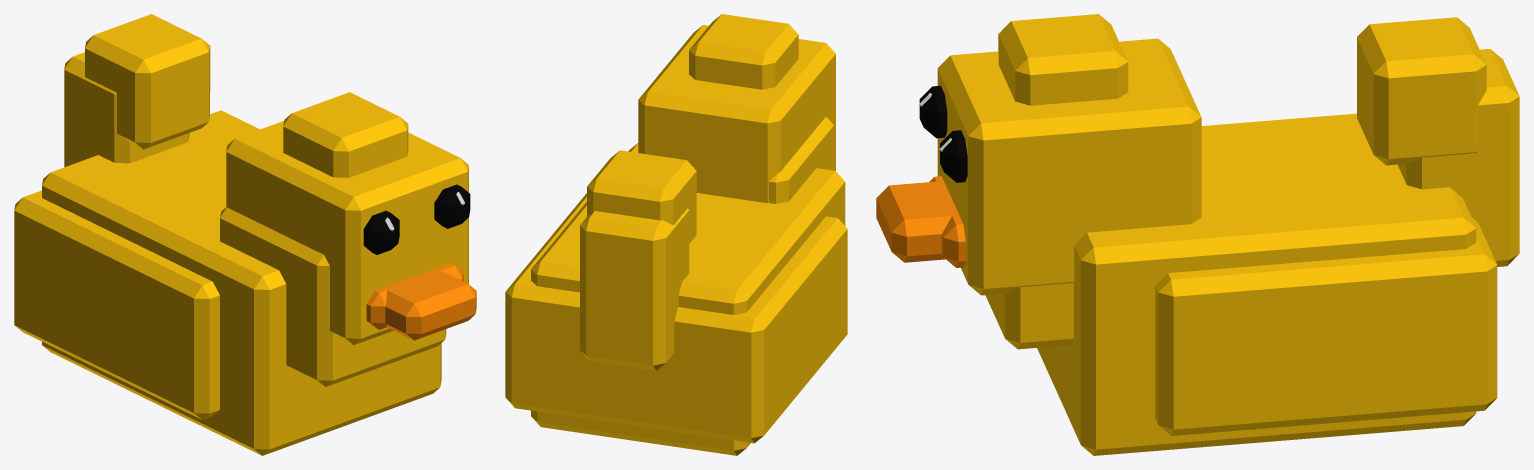
The model's file is RubberDuck_Alive.fbx.
3 renders of one model, left to right at view 1: azimuth 30°, elevation 25°; view 2: azimuth 150°, elevation 25°; view 3: azimuth 270°, elevation 25°, orthographic. The views are drawn at different scales.
Visible parts, largest first — view 1: Cube.074, Cube.075, Cube.070, Cube.078, Cube.037, Cube.153, Cube.069, Cube.077, Cube.038, Cube.068, Cube.073, Cube.076; view 2: Cube.075, Cube.070, Cube.074, Cube.077, Cube.076, Cube.153, Cube.078, Cube.037; view 3: Cube.074, Cube.075, Cube.070, Cube.078, Cube.153, Cube.077, Cube.069, Cube.037, Cube.076, Cube.068, Cube.038, Cube.073.
Part boxes in pixels (x1,y1,x2,y2): Cube.074: [42, 110, 441, 455]; Cube.075: [14, 190, 219, 419]; Cube.070: [226, 121, 468, 345]; Cube.078: [85, 14, 210, 149]; Cube.037: [220, 207, 446, 386]; Cube.153: [283, 92, 408, 177]; Cube.069: [383, 268, 476, 340]; Cube.077: [64, 52, 189, 162]; Cube.038: [434, 184, 470, 228]; Cube.068: [363, 210, 399, 254]; Cube.073: [366, 263, 463, 329]; Cube.076: [64, 135, 188, 167]; Cube.075: [505, 193, 847, 443]; Cube.070: [638, 25, 835, 203]; Cube.074: [531, 143, 845, 455]; Cube.077: [580, 208, 689, 304]; Cube.076: [580, 271, 689, 370]; Cube.153: [689, 14, 798, 89]; Cube.078: [587, 150, 696, 243]; Cube.037: [769, 117, 833, 203]; Cube.074: [1037, 113, 1476, 455]; Cube.075: [1155, 217, 1497, 435]; Cube.070: [937, 38, 1201, 295]; Cube.078: [1357, 17, 1486, 165]; Cube.153: [998, 14, 1128, 105]; Cube.077: [1399, 49, 1519, 189]; Cube.069: [876, 181, 958, 262]; Cube.037: [985, 283, 1073, 349]; Cube.076: [1398, 164, 1519, 266]; Cube.068: [919, 85, 947, 138]; Cube.038: [940, 130, 967, 182]; Cube.073: [929, 176, 965, 267].
Bounding box in the file's own units: 30.77 × 30.91 × 49.65.
